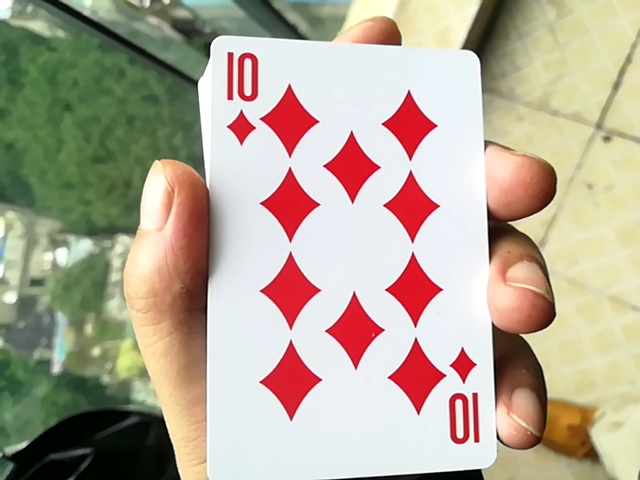fk 10: (188, 23, 507, 475)
